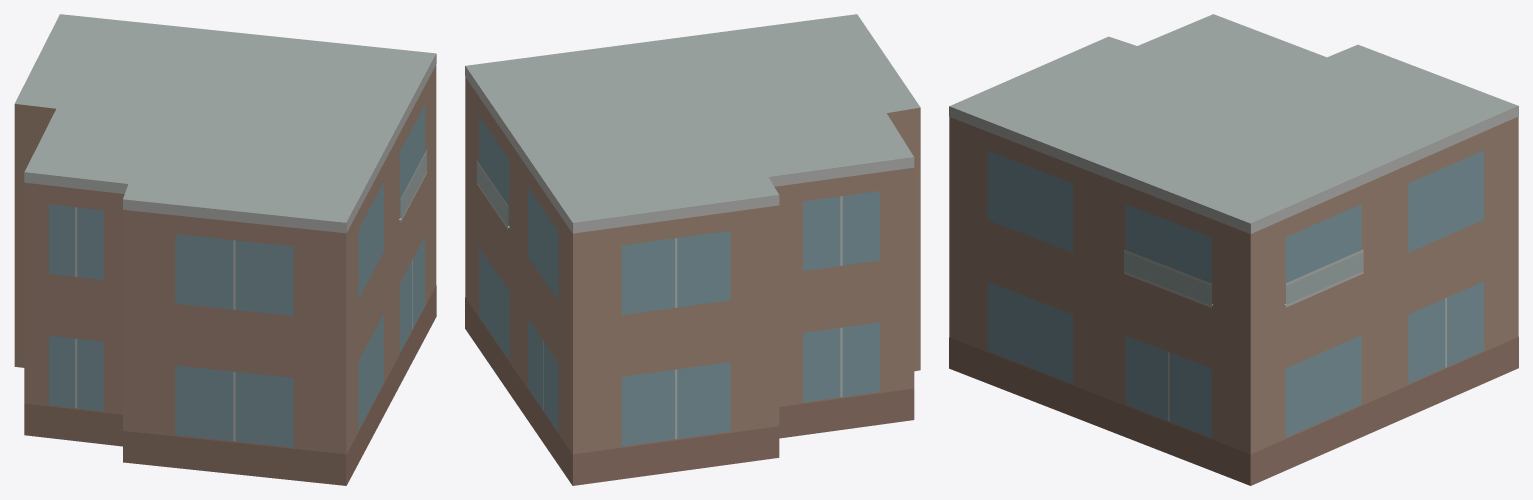
File: survey-upis-32989684.glb
3 renders of one model, left to right at view 1: azimuth 30°, elevation 25°; view 2: azimuth 150°, elevation 25°; view 3: azimuth 270°, elevation 25°, orthographic.
Parts seen in each view (by area): view 1: survey-upis-32989684.tmp; view 2: survey-upis-32989684.tmp; view 3: survey-upis-32989684.tmp.
Part boxes in pixels (x1,y1,x2,y2): survey-upis-32989684.tmp: (14,14,436,485); survey-upis-32989684.tmp: (465,14,920,485); survey-upis-32989684.tmp: (949,14,1518,485).
Bounding box in the file's own units: 10.46 × 6.1 × 12.01.
